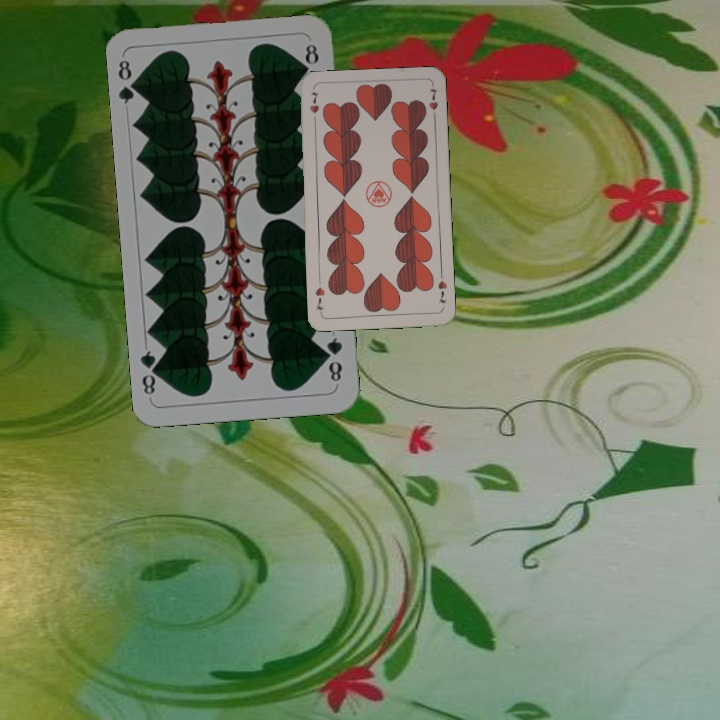G8: (114, 56, 143, 106), (321, 333, 345, 384)
H7: (306, 88, 322, 127), (434, 269, 449, 306)
